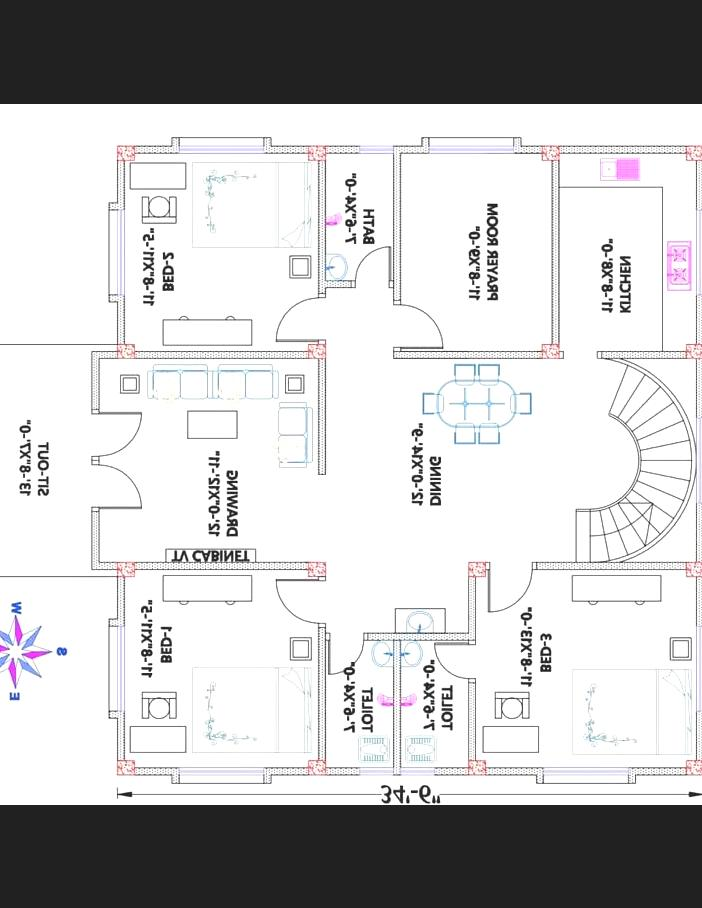Blueprint: (86, 131, 702, 785)
wall: (550, 160, 560, 344), (136, 560, 308, 570), (136, 349, 308, 358), (538, 560, 686, 570), (394, 145, 402, 299), (394, 350, 542, 358), (317, 358, 327, 474), (560, 144, 686, 153), (394, 638, 402, 776), (318, 626, 326, 760), (318, 160, 326, 292), (368, 631, 468, 640), (467, 682, 477, 760), (628, 765, 687, 776), (486, 766, 544, 776), (468, 576, 476, 640), (116, 294, 126, 344), (263, 144, 309, 154), (263, 766, 309, 776), (117, 576, 126, 626), (695, 500, 702, 561), (117, 708, 125, 760), (134, 144, 180, 153), (134, 766, 180, 775), (117, 159, 125, 210), (92, 350, 99, 408), (696, 357, 702, 418), (92, 510, 99, 562), (695, 709, 702, 759), (695, 159, 702, 209), (434, 766, 469, 776), (696, 292, 702, 343), (326, 766, 360, 775), (696, 576, 702, 626), (326, 144, 361, 152), (326, 278, 352, 288), (401, 144, 430, 152), (92, 561, 118, 569), (99, 349, 118, 358)
